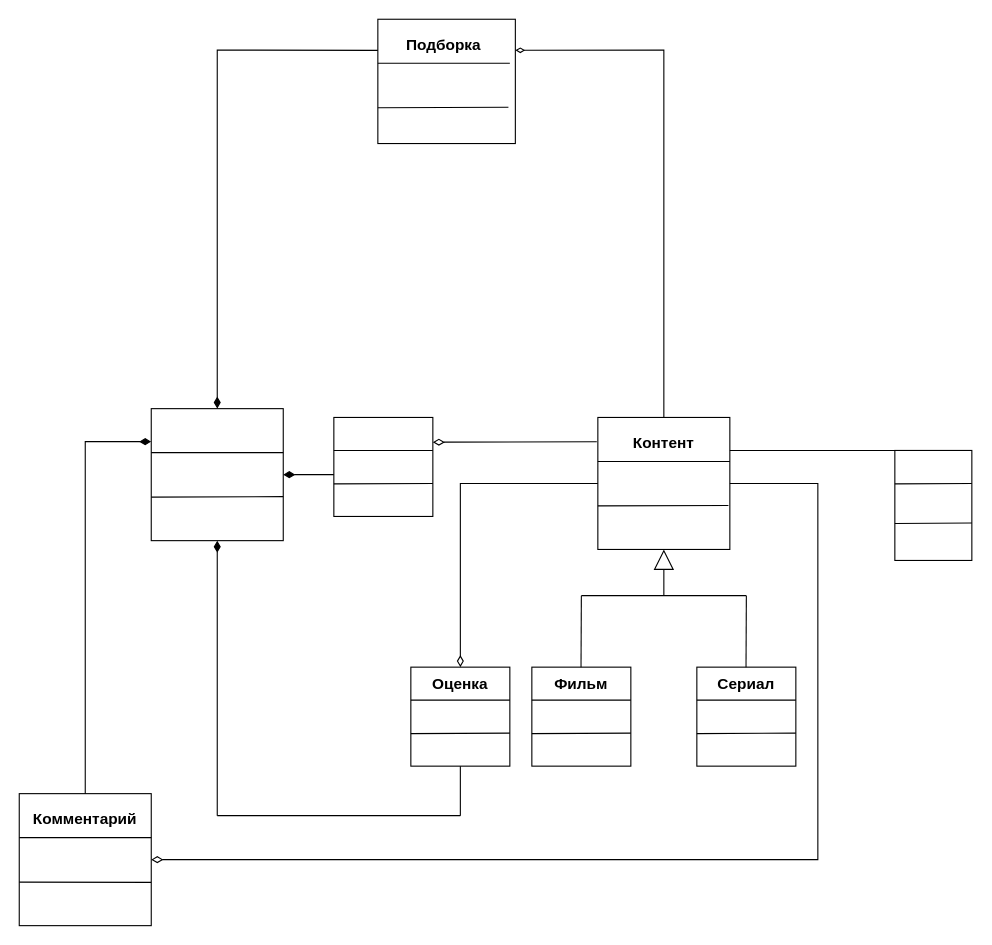
This 992x945 diagram has some shape labels left out. Here are the shapes that lost their labels. From the top down, the centre of each, then its label:
At (216,474): "Пользователь".
At (383,466): "Рецензия".
At (933,504): "Тег".
